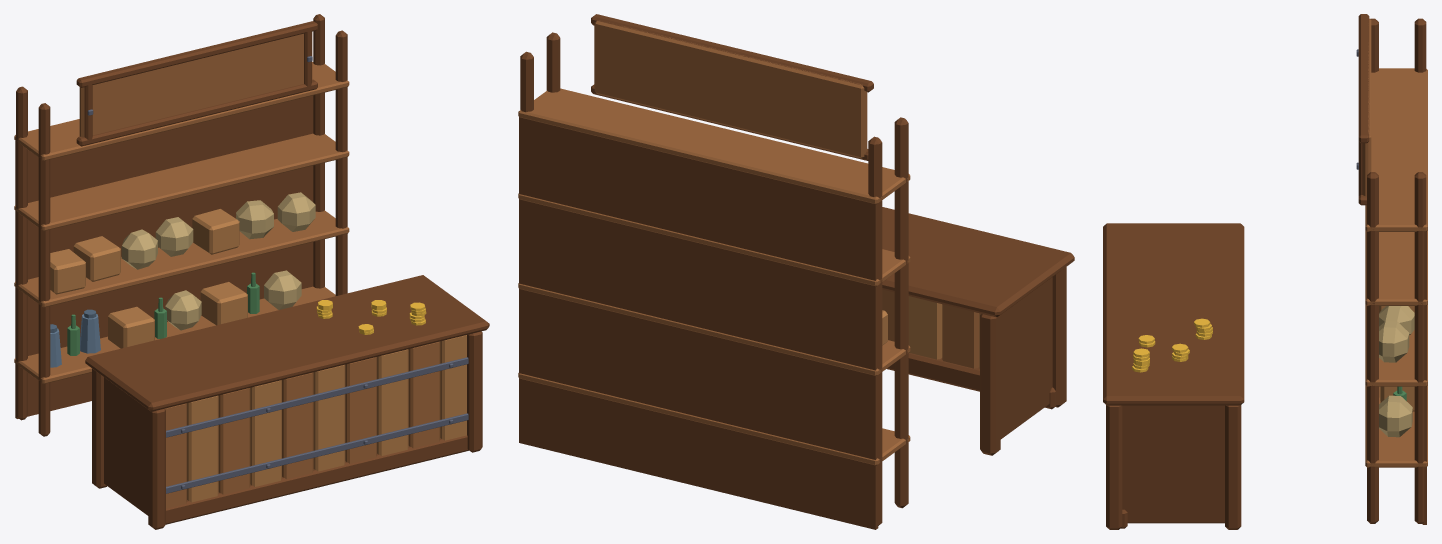
The model's file is negozio.glb.
3 renders of one model, left to right at view 1: azimuth 30°, elevation 25°; view 2: azimuth 150°, elevation 25°; view 3: azimuth 270°, elevation 25°, orthographic. The views are drawn at different scales.
Visible parts, largest first — view 1: negozio2; view 2: negozio2; view 3: negozio2.
Part boxes in pixels (<box>): negozio2: <box>14,14,489,529</box>; negozio2: <box>518,14,1074,529</box>; negozio2: <box>1103,14,1427,529</box>.
Size of the model in its own units: 2.8 by 2.76 by 2.19.
